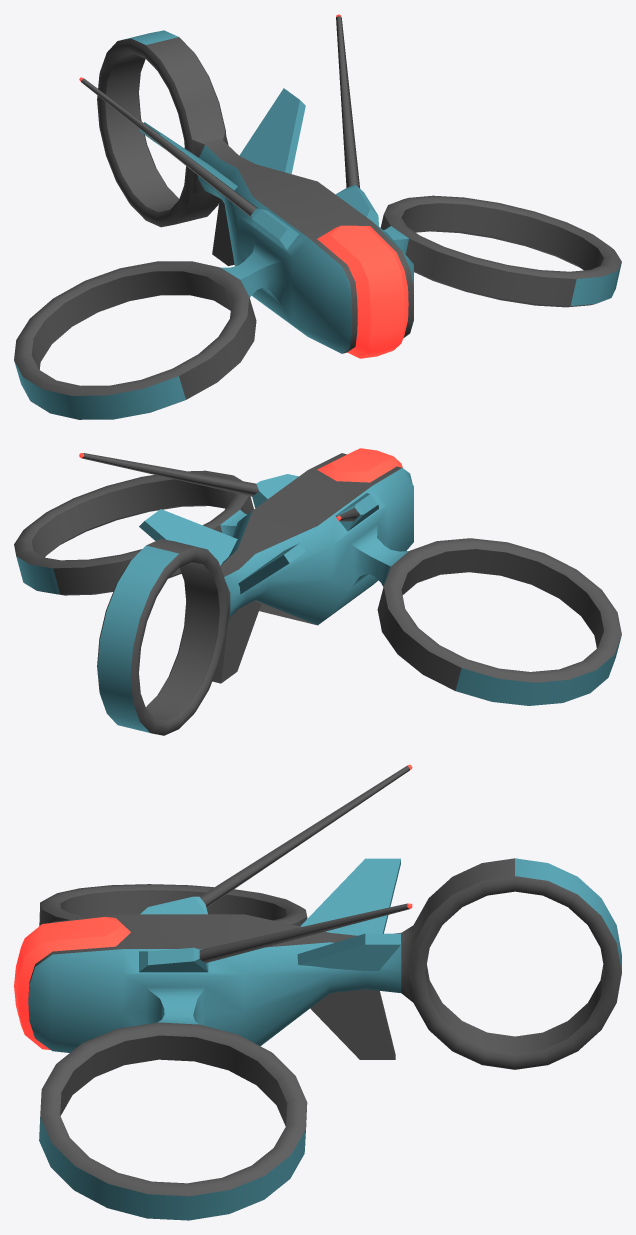
File: drone.fbx
The picture shows the model from 3 angles, top to bottom: view 1: azimuth 30°, elevation 25°; view 2: azimuth 150°, elevation 25°; view 3: azimuth 270°, elevation 25°; orthographic projection. The views are drawn at different scales.
Visible parts, largest first — view 1: Cube, Cube.001, Cube.002; view 2: Cube, Cube.001, Cube.002; view 3: Cube, Cube.001, Cube.002.
Part boxes in pixels (left/top/right/bottom): Cube: left=14, top=14, right=621, bottom=419; Cube.001: left=139, top=88, right=305, bottom=190; Cube.002: left=212, top=198, right=234, bottom=265; Cube: left=14, top=448, right=621, bottom=735; Cube.001: left=139, top=509, right=305, bottom=594; Cube.002: left=212, top=600, right=261, bottom=683; Cube: left=14, top=764, right=621, bottom=1220; Cube.001: left=297, top=858, right=400, bottom=970; Cube.002: left=310, top=989, right=395, bottom=1059.
Bounding box in the file's own units: 1165 × 418 × 970.
